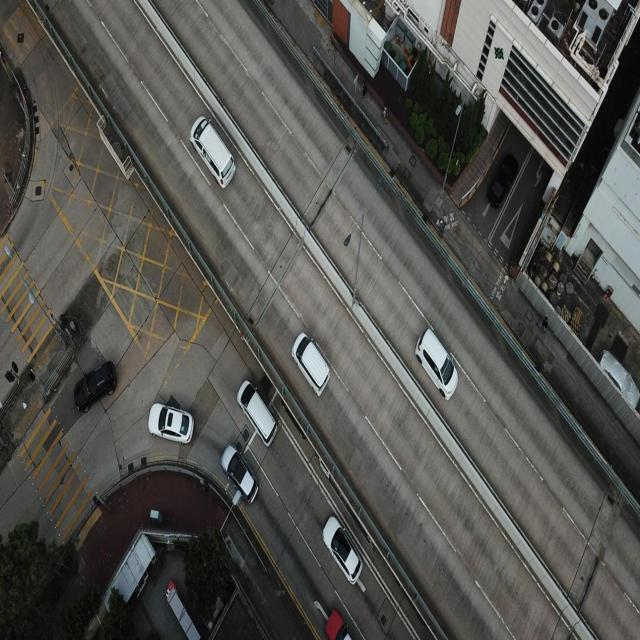p3rson: (536, 315, 548, 333), (381, 103, 388, 124), (360, 80, 367, 98)
